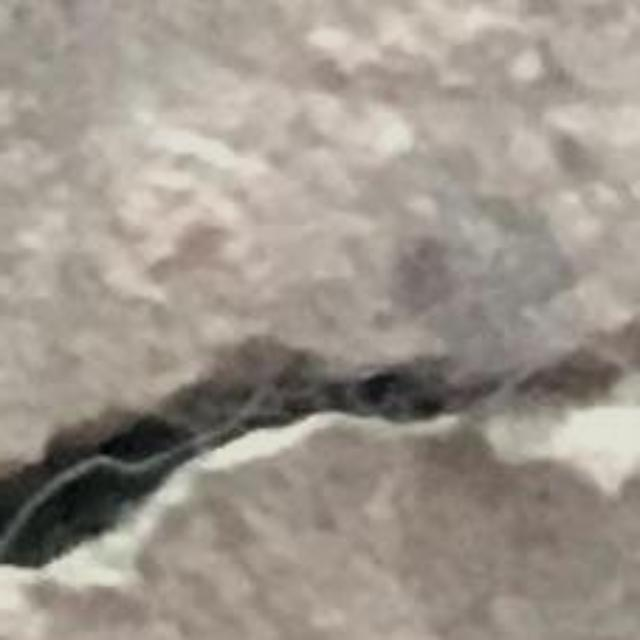crack: (0, 325, 639, 566)
